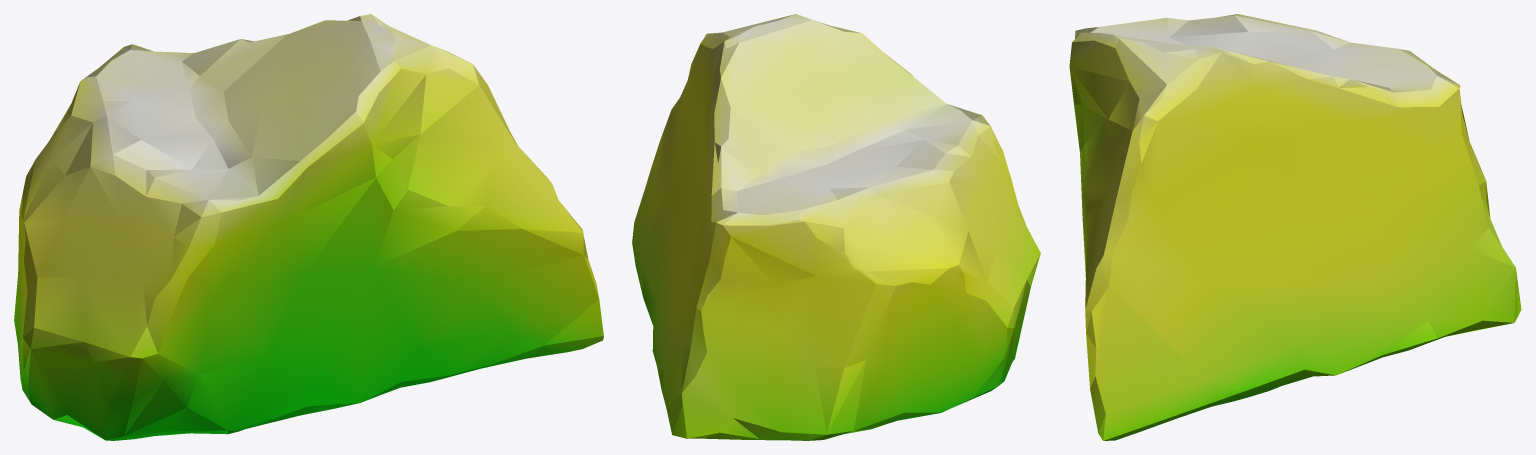
Rendered from rock_solo_04_LOD0.fbx.
3 renders of one model, left to right at view 1: azimuth 30°, elevation 25°; view 2: azimuth 150°, elevation 25°; view 3: azimuth 270°, elevation 25°, orthographic. The views are drawn at different scales.
Parts seen in each view (by area): view 1: LOD0; view 2: LOD0; view 3: LOD0.
Boxes of the visible parts, bbox=[...] form: LOD0: bbox=[14, 14, 603, 440]; LOD0: bbox=[632, 14, 1040, 440]; LOD0: bbox=[1069, 14, 1521, 440].
Size of the model in its own units: 67802 by 41935 by 54310.
